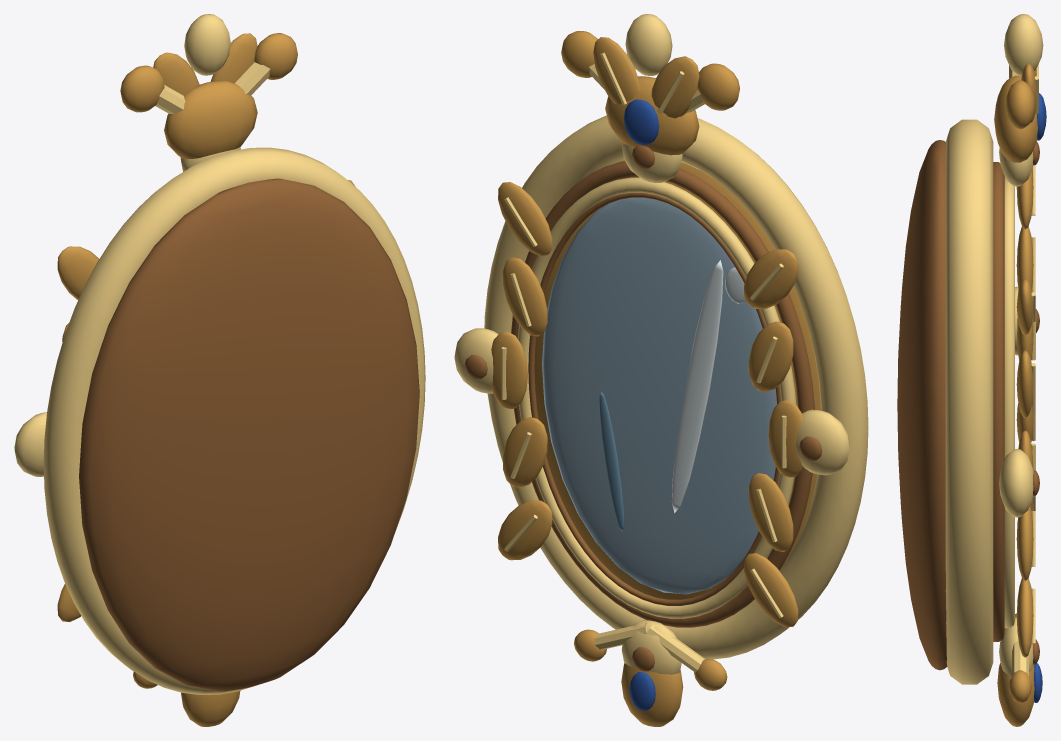
File: espelho_dourado.glb
3 views of the same model, side by side, from view 1: azimuth 30°, elevation 25°; view 2: azimuth 150°, elevation 25°; view 3: azimuth 270°, elevation 25° (orthographic).
Parts seen in each view (by area): view 1: Espelho | placa traseira oval; view 2: Espelho | placa traseira oval; view 3: Espelho | placa traseira oval.
Part boxes in pixels (bbox=[...]): Espelho | placa traseira oval: bbox=[14, 14, 425, 726]; Espelho | placa traseira oval: bbox=[454, 14, 868, 726]; Espelho | placa traseira oval: bbox=[897, 14, 1046, 726].
Bounding box in the file's own units: 1.38 × 2.38 × 0.455.
